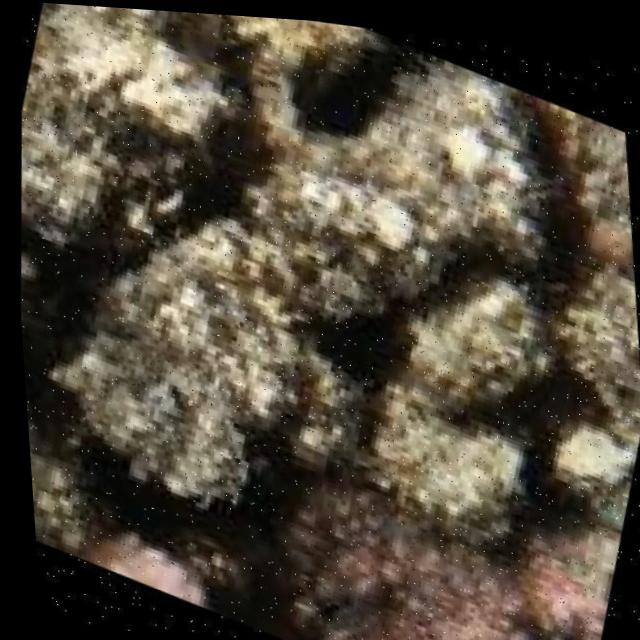Dead Coral: (0, 0, 640, 606)
